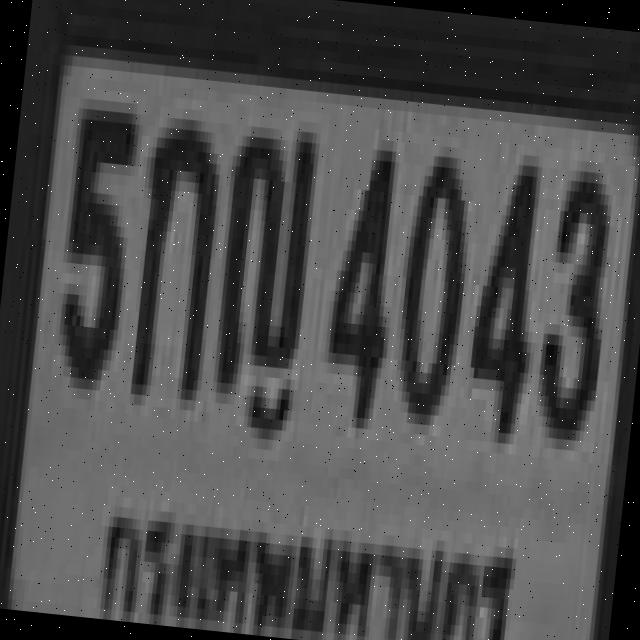0: (388, 144, 474, 416)
10GorGai: (126, 105, 220, 389)
22YorYing: (208, 109, 318, 394)
3: (530, 158, 616, 432)
4: (460, 151, 543, 434), (318, 136, 400, 419)
5: (50, 97, 137, 380)
Bangkok: (86, 474, 530, 640)
